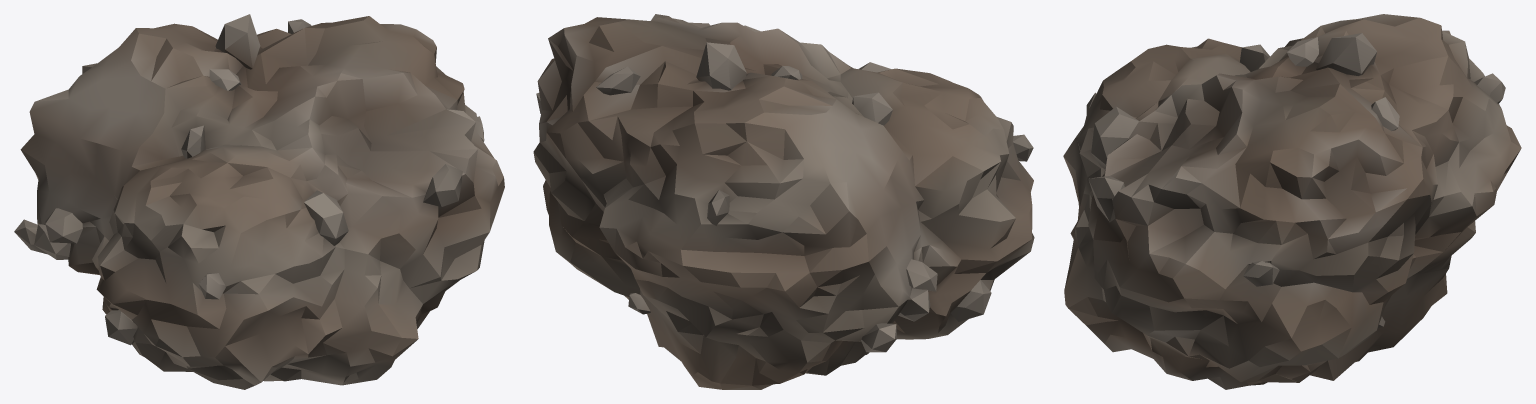
Rendered from asteroid_1.glb.
3 views of the same model, side by side, from view 1: azimuth 30°, elevation 25°; view 2: azimuth 150°, elevation 25°; view 3: azimuth 270°, elevation 25° (orthographic). The views are drawn at different scales.
Parts seen in each view (by area): view 1: asteroid_1_mesh; view 2: asteroid_1_mesh; view 3: asteroid_1_mesh.
Boxes of the visible parts, x1=… form: asteroid_1_mesh: x1=14, y1=14, x2=504, y2=389; asteroid_1_mesh: x1=533, y1=14, x2=1034, y2=389; asteroid_1_mesh: x1=1063, y1=14, x2=1521, y2=389.
Size of the model in its own units: 1.78 by 1.33 by 1.62.
